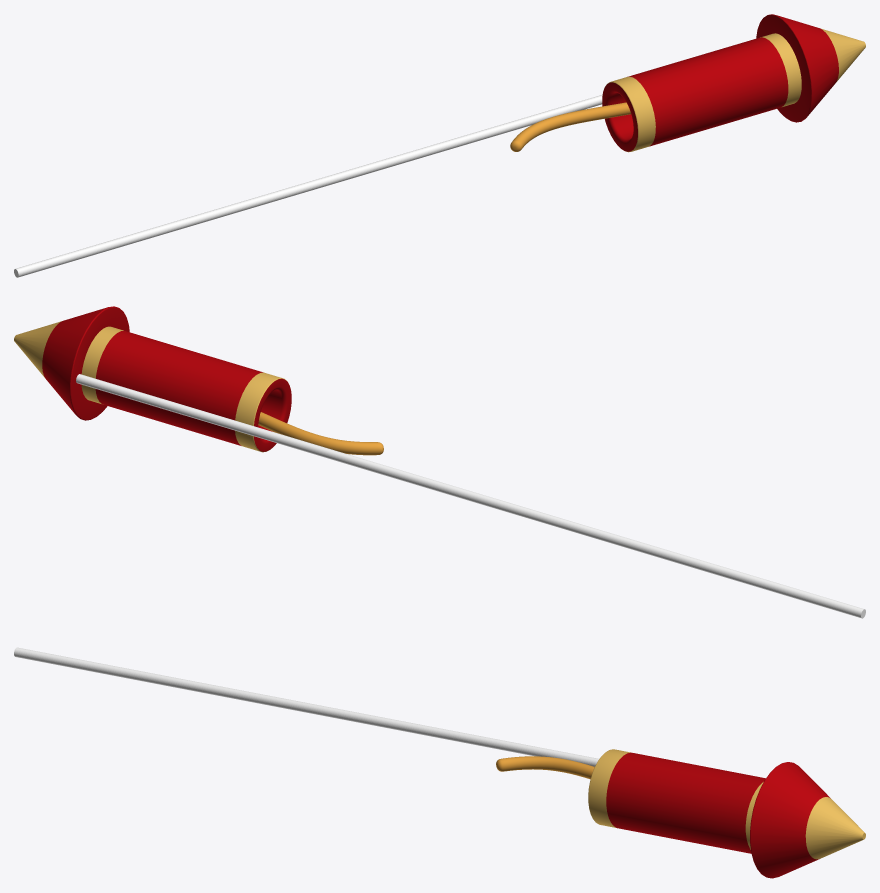
File: rocket.glb
3 views of the same model, one above another, from view 1: azimuth 30°, elevation 25°; view 2: azimuth 150°, elevation 25°; view 3: azimuth 330°, elevation 25° (orthographic). The views are drawn at different scales.
Parts seen in each view (by area): view 1: Cylinder.033, Cylinder.032, Cylinder.028, BézierCurve.006; view 2: Cylinder.033, Cylinder.032, Cylinder.028, BézierCurve.006; view 3: Cylinder.033, Cylinder.032, Cylinder.028, BézierCurve.006.
Part boxes in pixels (bbox=[...]): Cylinder.033: bbox=[602, 14, 838, 151]; Cylinder.032: bbox=[14, 94, 602, 277]; Cylinder.028: bbox=[605, 28, 865, 152]; BézierCurve.006: bbox=[510, 102, 630, 151]; Cylinder.033: bbox=[42, 306, 291, 451]; Cylinder.032: bbox=[76, 374, 865, 618]; Cylinder.028: bbox=[14, 321, 288, 452]; BézierCurve.006: bbox=[258, 412, 383, 455]; Cylinder.033: bbox=[606, 752, 830, 878]; Cylinder.032: bbox=[14, 647, 598, 766]; Cylinder.028: bbox=[588, 749, 865, 859]; BézierCurve.006: bbox=[496, 756, 594, 779].
Size of the model in its own units: 1.63 by 0.191 by 0.1913.
